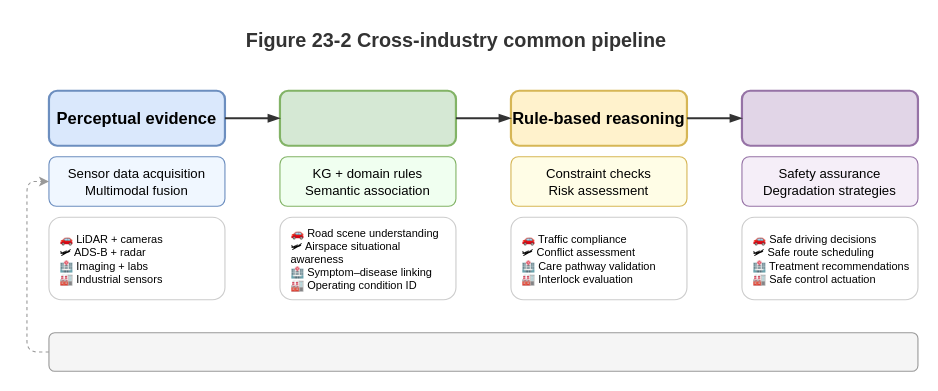
Image size: 938x391. Some labels were removed from this diagram. Each missing label, with the box of its shape:
Control & decision: (740, 89, 919, 146)
Feedback loop: decisions → update KG → adjust rules → refine perception: (48, 332, 918, 371)
Knowledge-augmented understanding: (278, 89, 457, 146)
